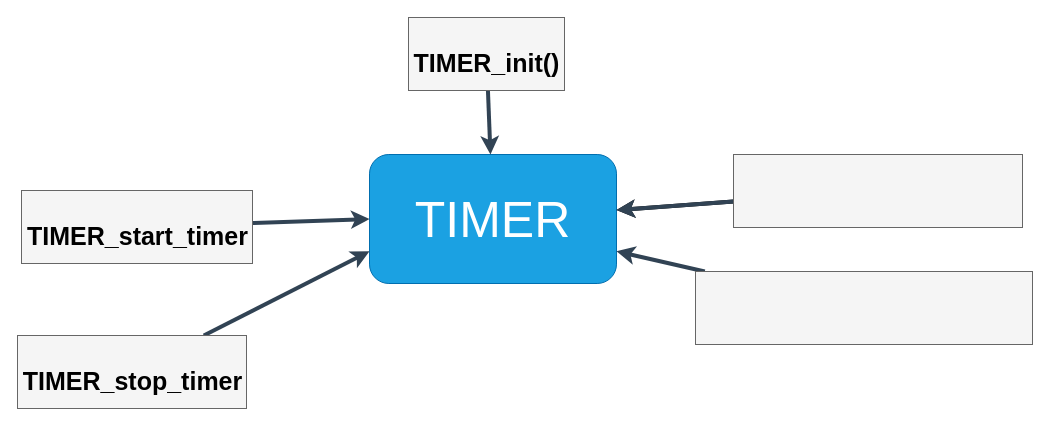
Image size: 1050x426. Some labels were removed from this diagram. The box of each missing label's shape, as (x1, y1, x2, y2) in pixels:
TIMER_set_call_back_ISR(): (694, 270, 1032, 344)
TIMER_ste_tick_value(): (732, 154, 1022, 228)
